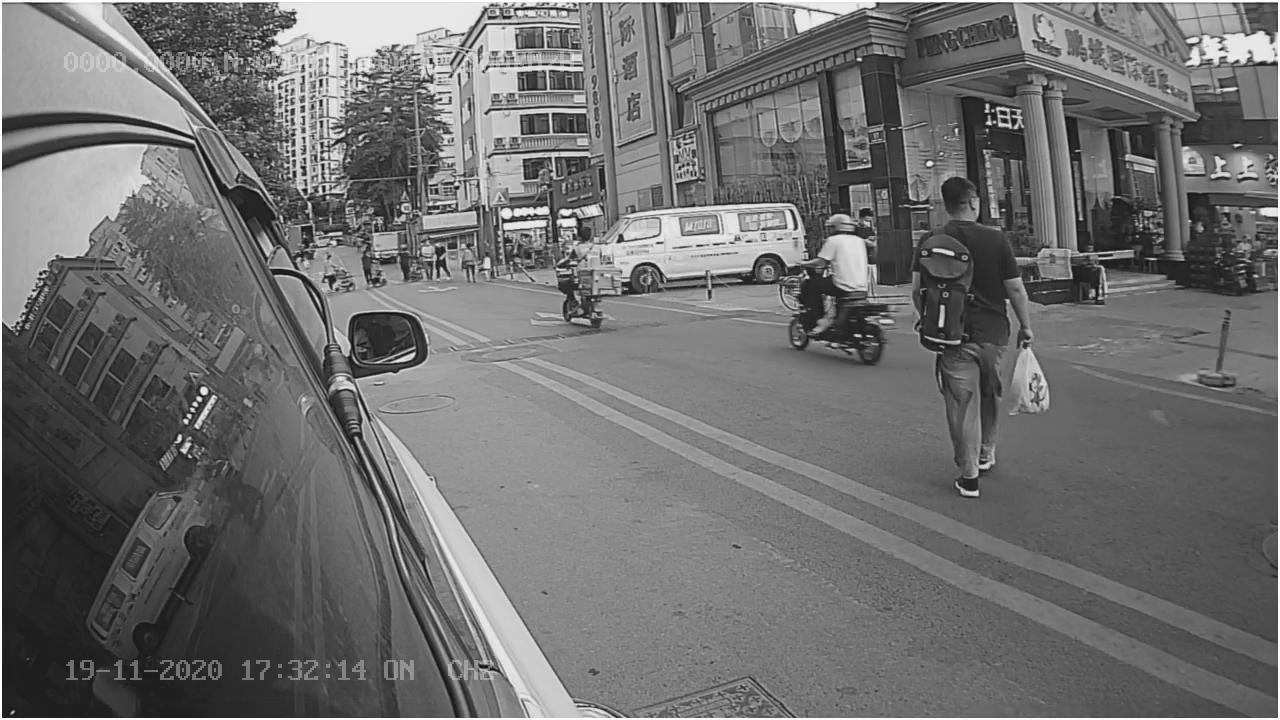person: (910, 174, 1025, 490)
